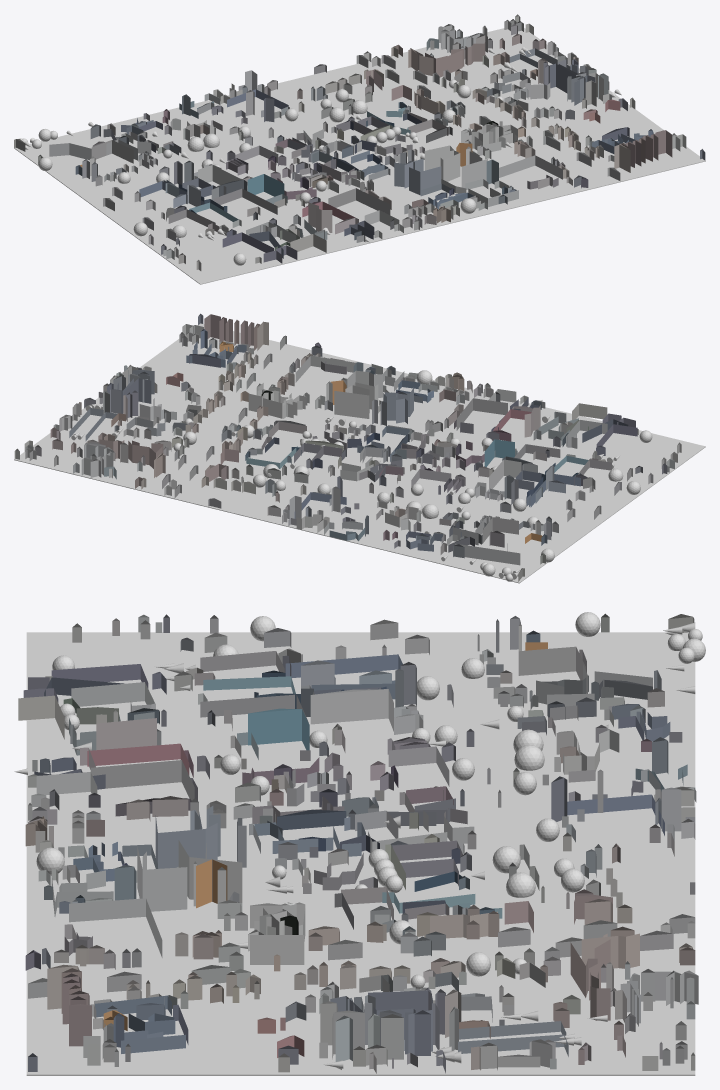
Rendered from scene_f8edb499-ec0b-4871-82e1-6c29f3fed9ba.glb.
The picture shows the model from 3 angles, top to bottom: view 1: azimuth 30°, elevation 25°; view 2: azimuth 150°, elevation 25°; view 3: azimuth 270°, elevation 25°; orthographic projection. The views are drawn at different scales.
Visible parts, largest first — view 1: Ground_Base, BLD-436, BLD-439, BLD-069, BLD-487, BLD-506, BLD-365, BLD-432, BLD-077, BLD-298, BLD-482, BLD-062 (+4 smaller); view 2: Ground_Base, BLD-439, BLD-069, BLD-436, BLD-487, BLD-077, BLD-365, BLD-506, BLD-062, BLD-308, BLD-432, BLD-208 (+2 smaller); view 3: Ground_Base, BLD-308, BLD-436, BLD-432, BLD-487, BLD-365, BLD-506, BLD-382, BLD-482, BLD-062, BLD-484, BLD-517 (+42 smaller).
Boxes of the visible parts, bbox=[...] form: Ground_Base: bbox=[14, 28, 705, 284]; BLD-436: bbox=[394, 158, 441, 195]; BLD-439: bbox=[424, 145, 460, 181]; BLD-069: bbox=[49, 139, 151, 160]; BLD-487: bbox=[328, 188, 390, 214]; BLD-506: bbox=[499, 155, 562, 179]; BLD-365: bbox=[247, 174, 284, 196]; BLD-432: bbox=[461, 151, 487, 187]; BLD-077: bbox=[425, 48, 464, 77]; BLD-298: bbox=[214, 188, 277, 214]; BLD-482: bbox=[308, 202, 332, 232]; BLD-062: bbox=[91, 140, 133, 163]; Ground_Base: bbox=[14, 323, 705, 583]; BLD-439: bbox=[334, 382, 378, 418]; BLD-069: bbox=[453, 519, 520, 565]; BLD-436: bbox=[383, 387, 413, 423]; BLD-487: bbox=[456, 398, 507, 430]; BLD-077: bbox=[128, 440, 163, 468]; BLD-365: bbox=[484, 439, 514, 466]; BLD-506: bbox=[295, 355, 355, 382]; BLD-062: bbox=[482, 517, 518, 543]; BLD-308: bbox=[489, 459, 521, 488]; BLD-432: bbox=[345, 370, 382, 397]; BLD-208: bbox=[340, 447, 373, 481]; Ground_Base: bbox=[26, 632, 695, 1075]; BLD-308: bbox=[310, 689, 393, 731]; BLD-436: bbox=[155, 806, 220, 868]; BLD-432: bbox=[137, 846, 187, 911]; BLD-487: bbox=[90, 760, 194, 800]; BLD-365: bbox=[248, 708, 309, 750]; BLD-506: bbox=[69, 898, 162, 957]; BLD-382: bbox=[250, 920, 304, 964]; BLD-482: bbox=[96, 718, 156, 750]; BLD-062: bbox=[518, 646, 585, 680]; BLD-484: bbox=[87, 743, 189, 775]; BLD-517: bbox=[71, 682, 155, 708].
Bounding box in the file's own units: 342 × 20.05 × 224.
